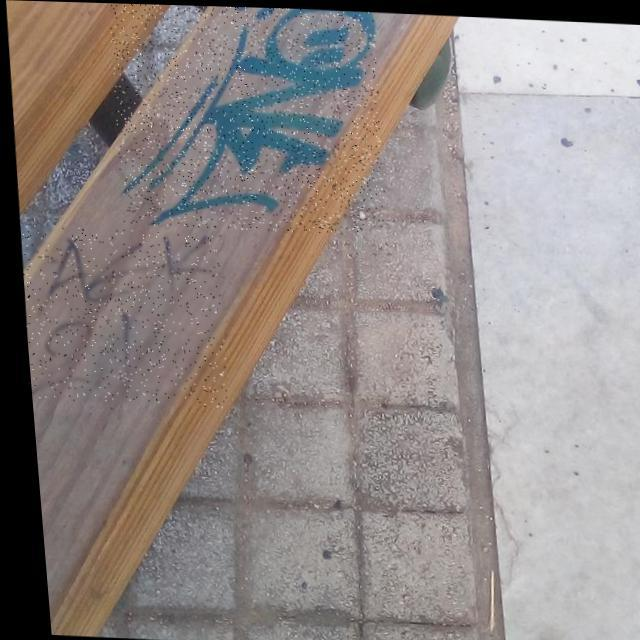-: (104, 2, 386, 234), (15, 224, 224, 406)
